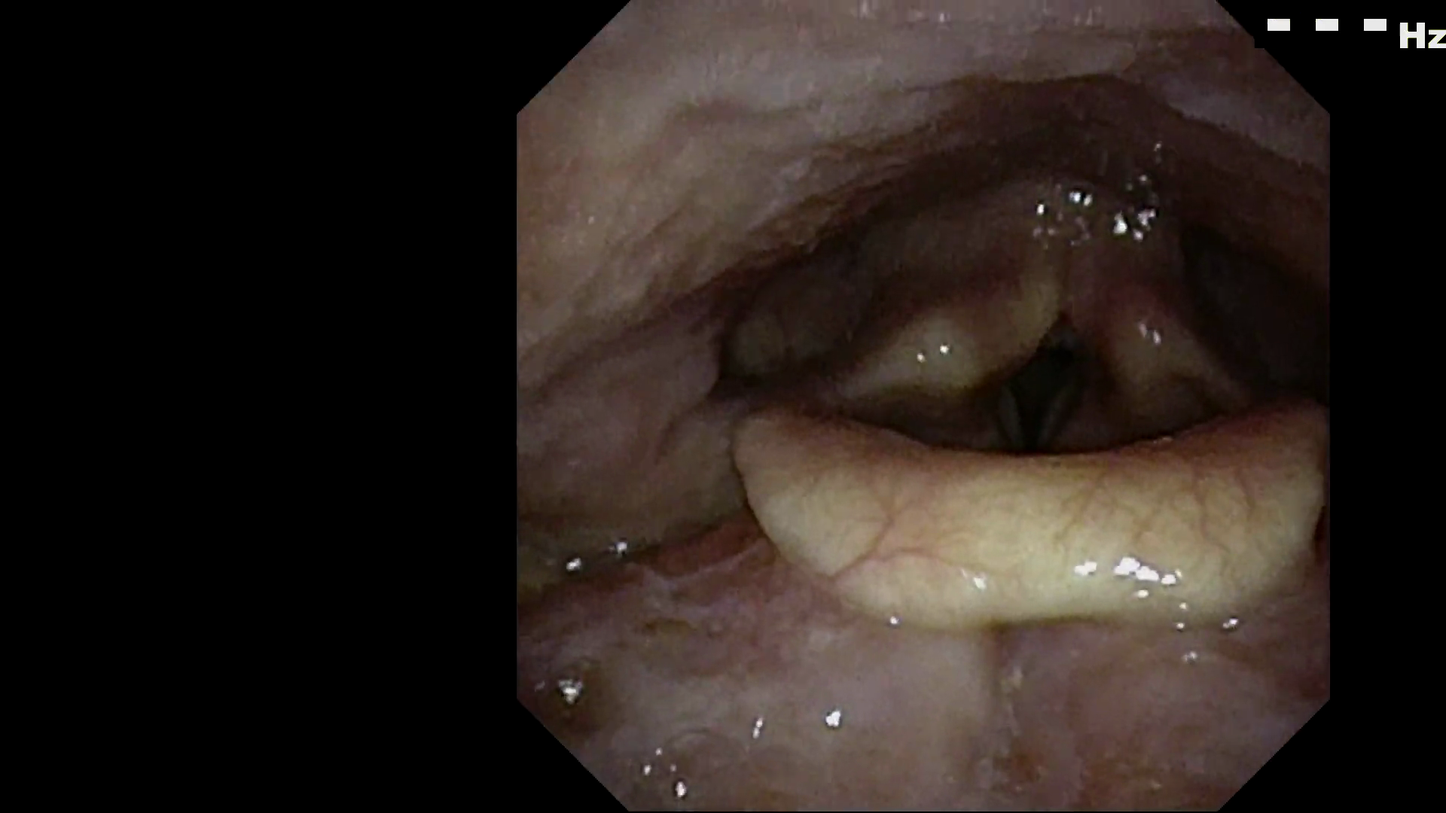epiglottis: (702, 377, 1330, 637)
trachea: (955, 312, 1110, 494)
